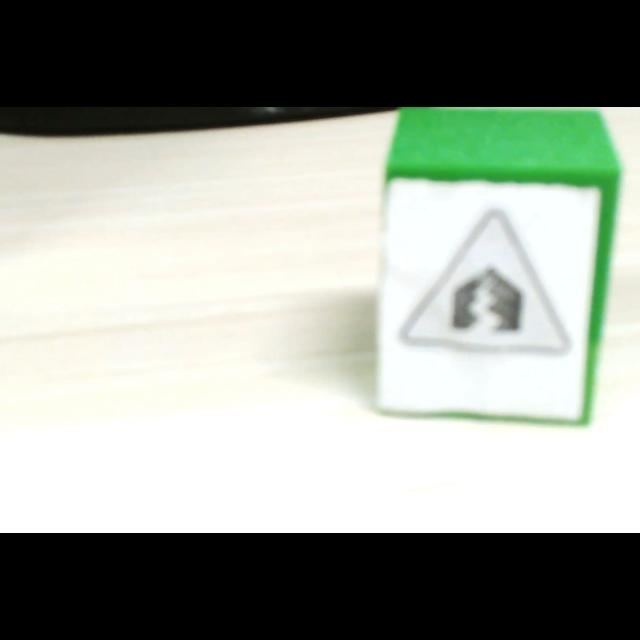Earthquake: (398, 209, 570, 355), (398, 262, 572, 354)
